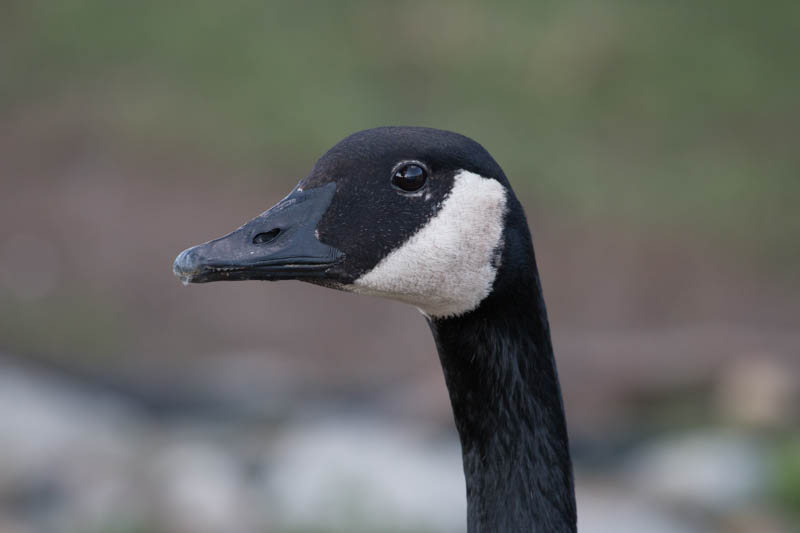goose-head: (171, 126, 545, 317)
